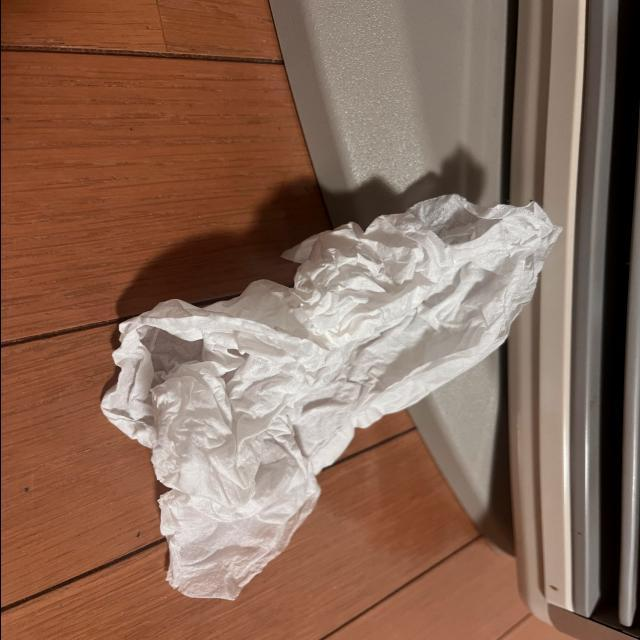Paper: (104, 180, 550, 601)
